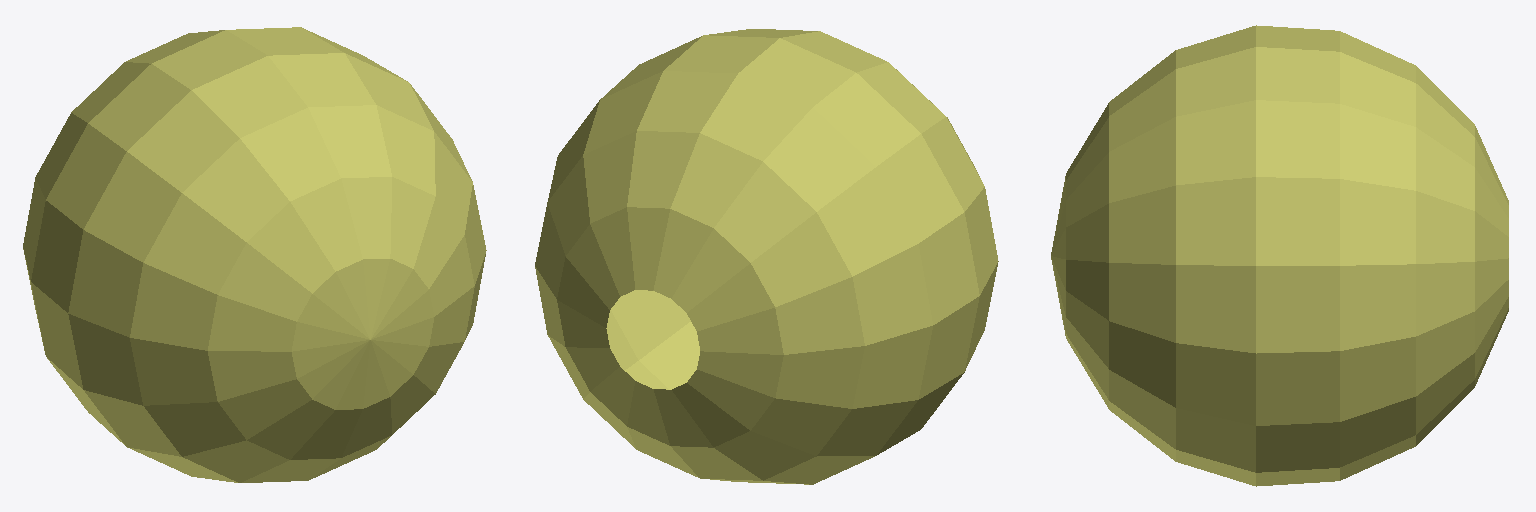
File: big_lamp.obj
3 renders of one model, left to right at view 1: azimuth 30°, elevation 25°; view 2: azimuth 150°, elevation 25°; view 3: azimuth 270°, elevation 25°, orthographic.
Size of the model in its own units: 0.2978 by 0.2978 by 0.2957.